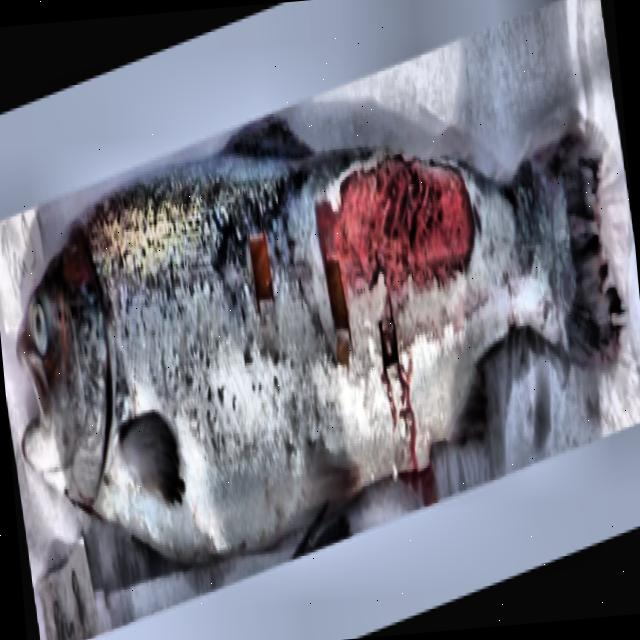mild_red: (16, 117, 573, 562)
wound: (313, 153, 479, 369), (247, 228, 277, 308)
